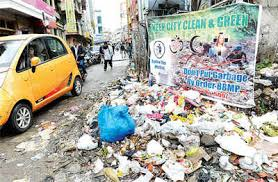garbage: (84, 92, 278, 181), (114, 77, 201, 182)
